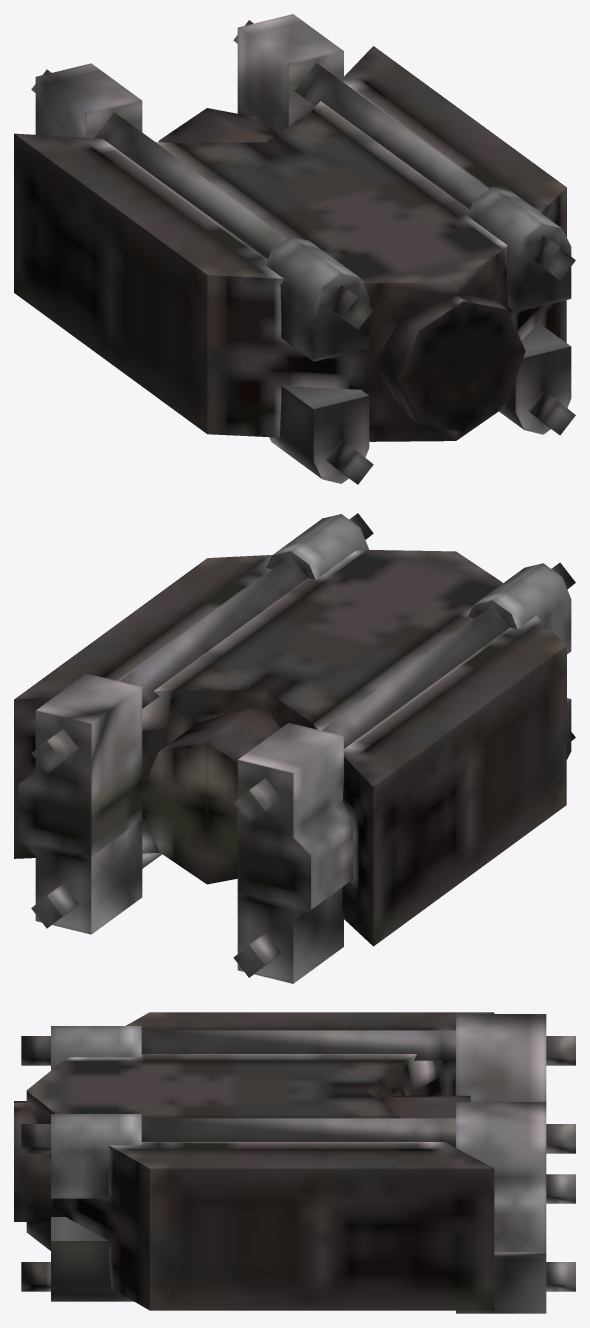
Rendered from Sniper_Rifle_Object001_Stock_Main_(000610).glb.
The picture shows the model from 3 angles, top to bottom: view 1: azimuth 30°, elevation 25°; view 2: azimuth 150°, elevation 25°; view 3: azimuth 270°, elevation 25°; orthographic projection. The views are drawn at different scales.
Visible parts, largest first — view 1: Object001; view 2: Object001; view 3: Object001.
Boxes of the visible parts, x1,y1,x2,y2 form: Object001: (14,14,575,484); Object001: (14,513,575,983); Object001: (14,1012,575,1313).
Size of the model in its own units: 0.1887 by 0.1057 by 0.2867.
Materials: 1 (1 with a texture image).
